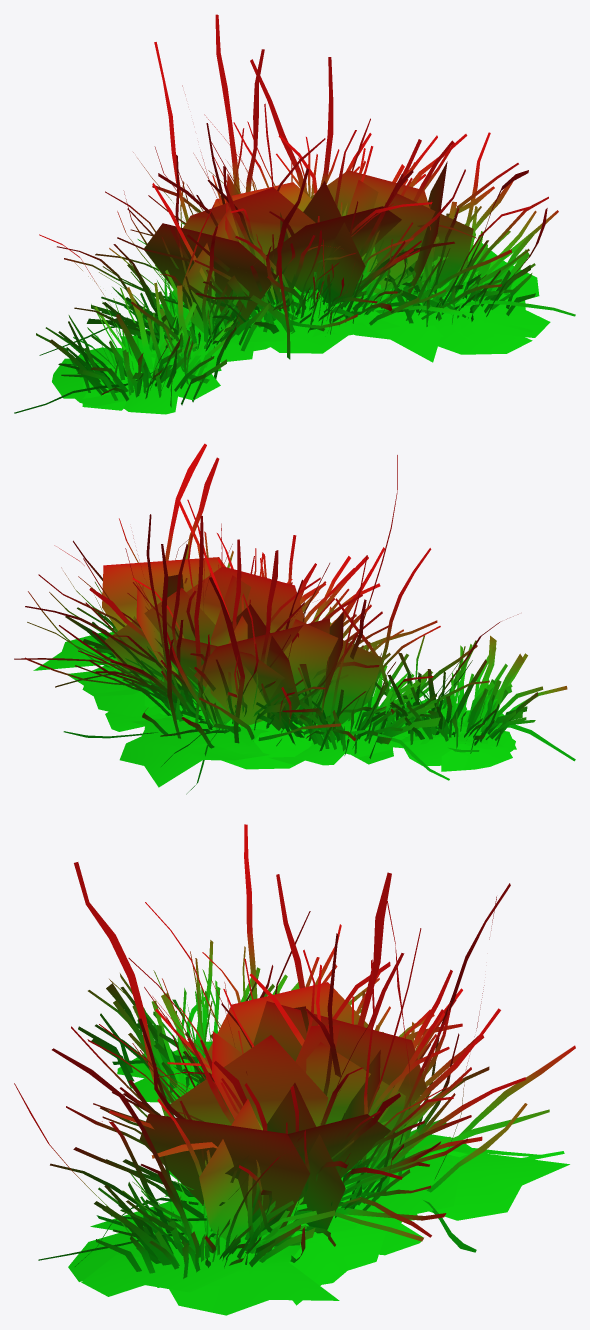
File: Var6_LOD3.fbx
3 views of the same model, one above another, from view 1: azimuth 30°, elevation 25°; view 2: azimuth 150°, elevation 25°; view 3: azimuth 270°, elevation 25° (orthographic). The views are drawn at different scales.
Parts seen in each view (by area): view 1: _r4qn_Var6_LOD3; view 2: _r4qn_Var6_LOD3; view 3: _r4qn_Var6_LOD3.
Boxes of the visible parts, box(x1,y1,x2,y2) form: _r4qn_Var6_LOD3: box(14, 14, 575, 414); _r4qn_Var6_LOD3: box(14, 443, 575, 794); _r4qn_Var6_LOD3: box(14, 824, 575, 1315).
Size of the model in its own units: 158 by 67.95 by 114.
